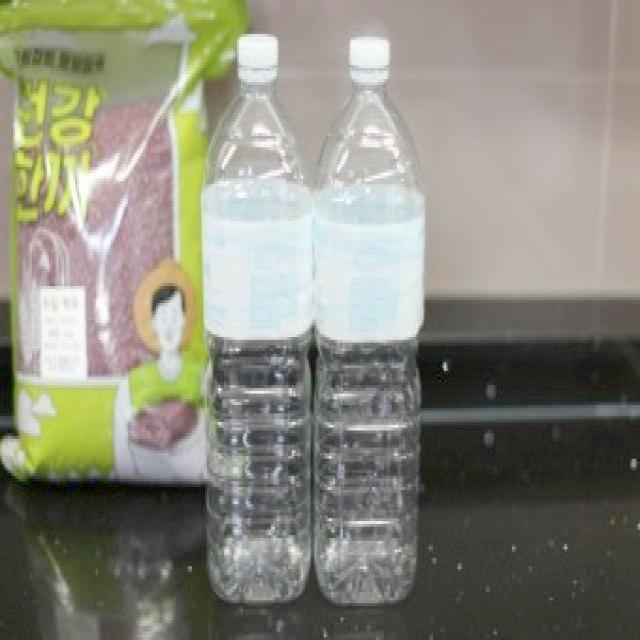bottle: (200, 34, 315, 601), (315, 37, 426, 606)
